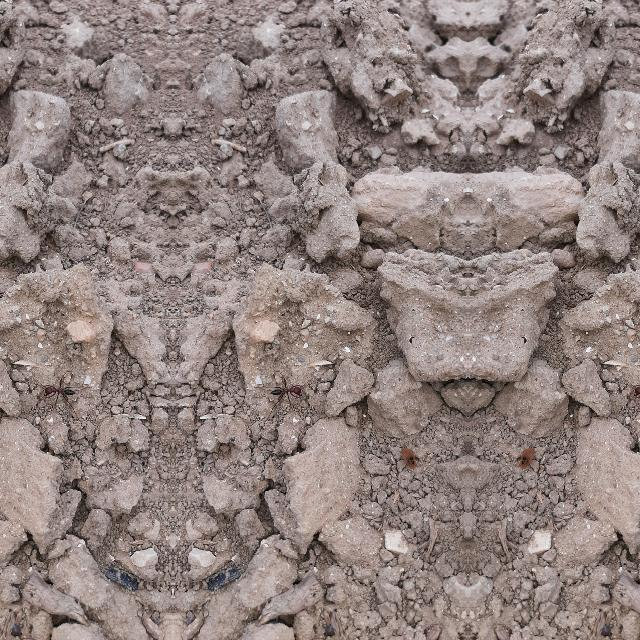Cataglyphis: (266, 369, 302, 407), (42, 369, 78, 407), (632, 369, 640, 407)
